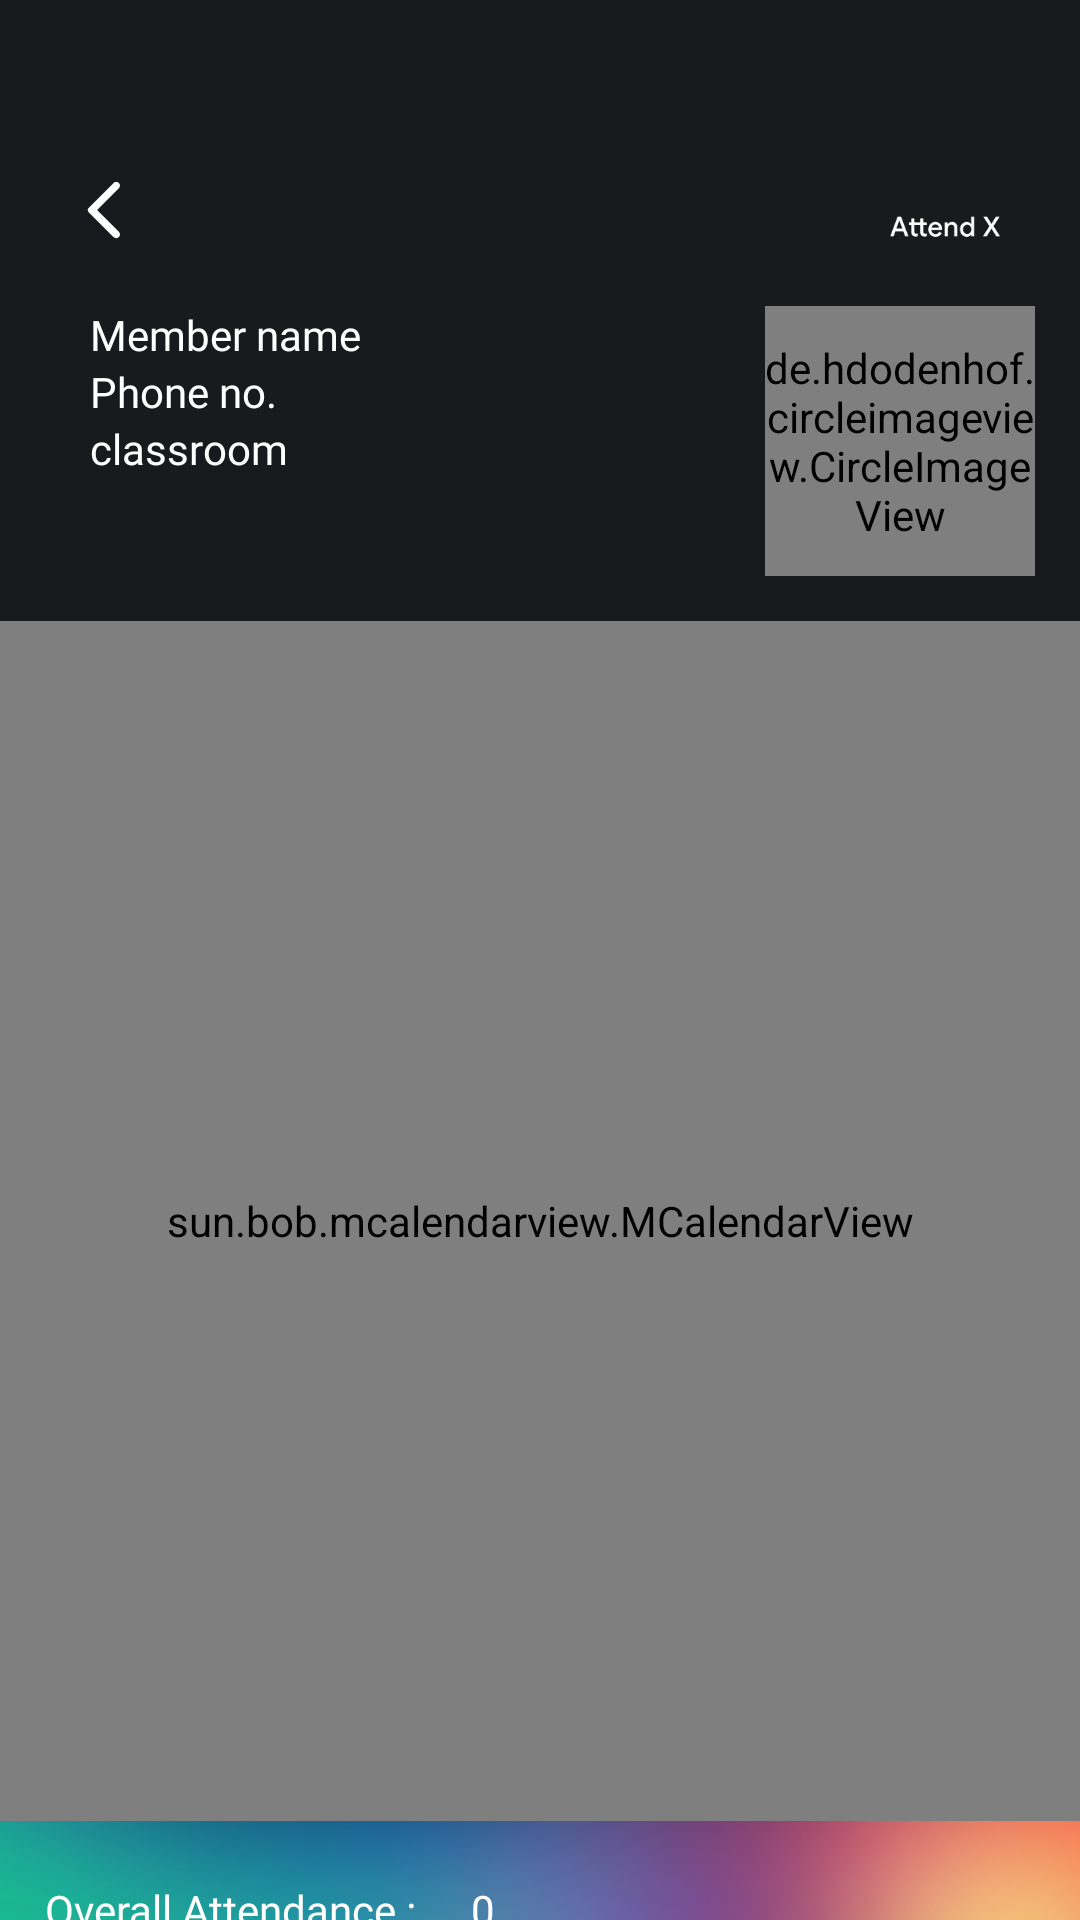

Screen size 1080 × 1920. Icon name, then its box in pixels as (x1, y1, x2, y2):
back: (87, 182, 120, 239)
